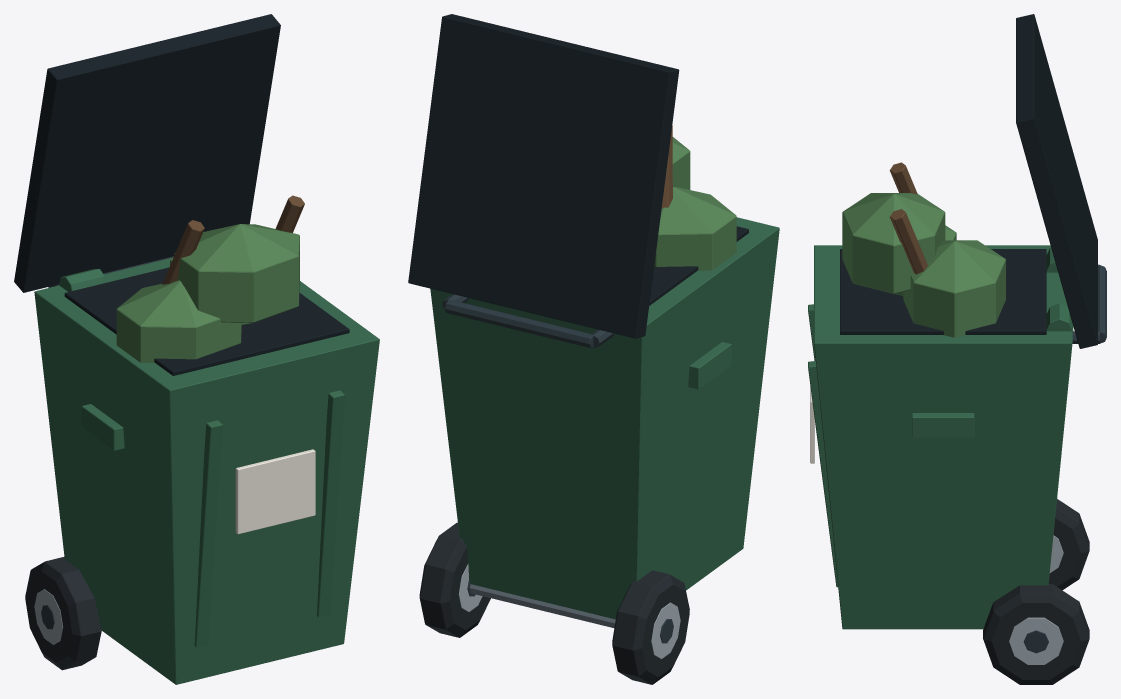
The model's file is b04_open_yard_waste_cart.glb.
3 views of the same model, side by side, from view 1: azimuth 30°, elevation 25°; view 2: azimuth 150°, elevation 25°; view 3: azimuth 270°, elevation 25° (orthographic). The views are drawn at different scales.
Visible parts, largest first — view 1: b04_open_yard_waste_cart; view 2: b04_open_yard_waste_cart; view 3: b04_open_yard_waste_cart.
Boxes of the visible parts, x1,y1,x2,y2 form: b04_open_yard_waste_cart: (14, 14, 379, 684); b04_open_yard_waste_cart: (408, 14, 779, 684); b04_open_yard_waste_cart: (808, 14, 1106, 684).
Bounding box in the file's own units: 0.65 × 1.65 × 0.786.
